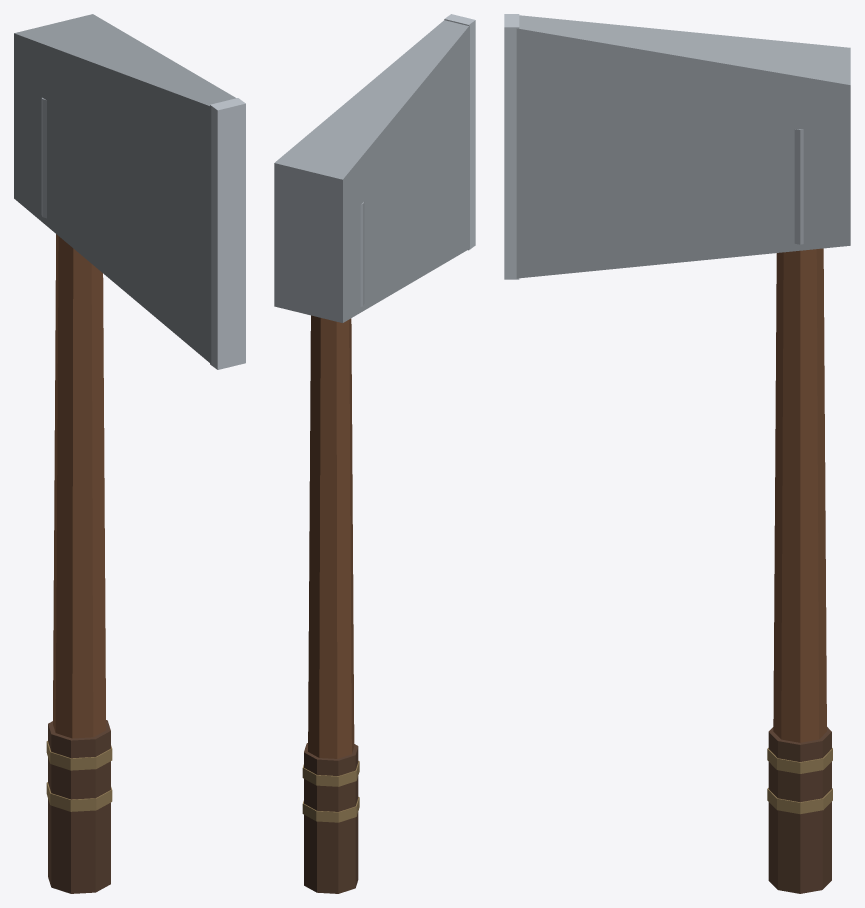
Rendered from tool_axe_iron.glb.
3 renders of one model, left to right at view 1: azimuth 30°, elevation 25°; view 2: azimuth 150°, elevation 25°; view 3: azimuth 270°, elevation 25°, orthographic. The views are drawn at different scales.
Visible parts, largest first — view 1: tool_axe_iron; view 2: tool_axe_iron; view 3: tool_axe_iron.
Part boxes in pixels (x1,y1,x2,y2): tool_axe_iron: (14,14,245,893); tool_axe_iron: (274,14,475,893); tool_axe_iron: (504,14,850,893).
Size of the model in its own units: 0.07 by 0.75 by 0.274.
